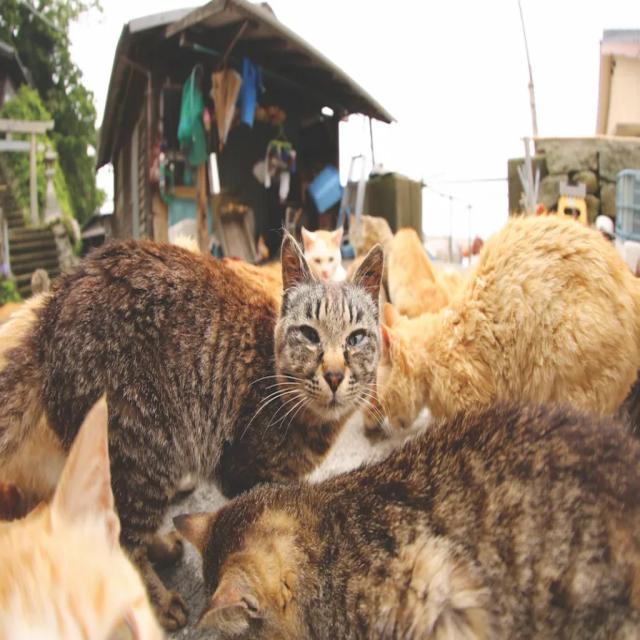cat: (0, 235, 381, 628), (176, 402, 640, 637), (366, 216, 640, 428), (0, 398, 164, 640), (350, 216, 456, 316), (224, 259, 282, 304), (301, 227, 346, 282)
